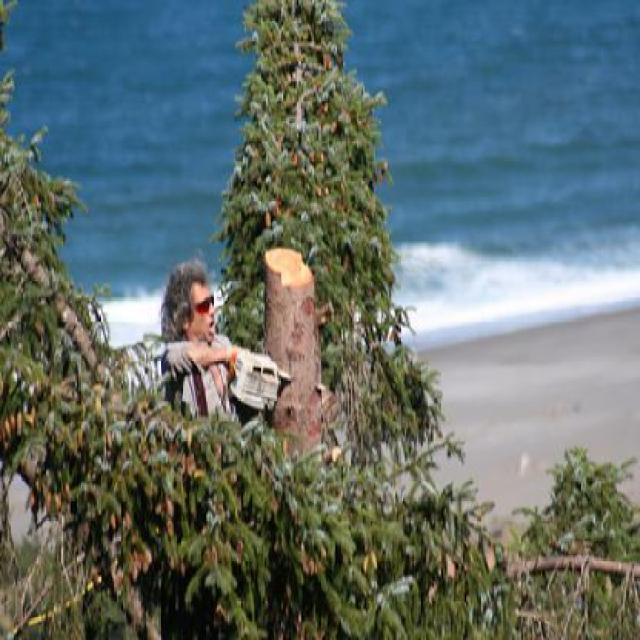Chainsaw: (223, 338, 334, 420)
